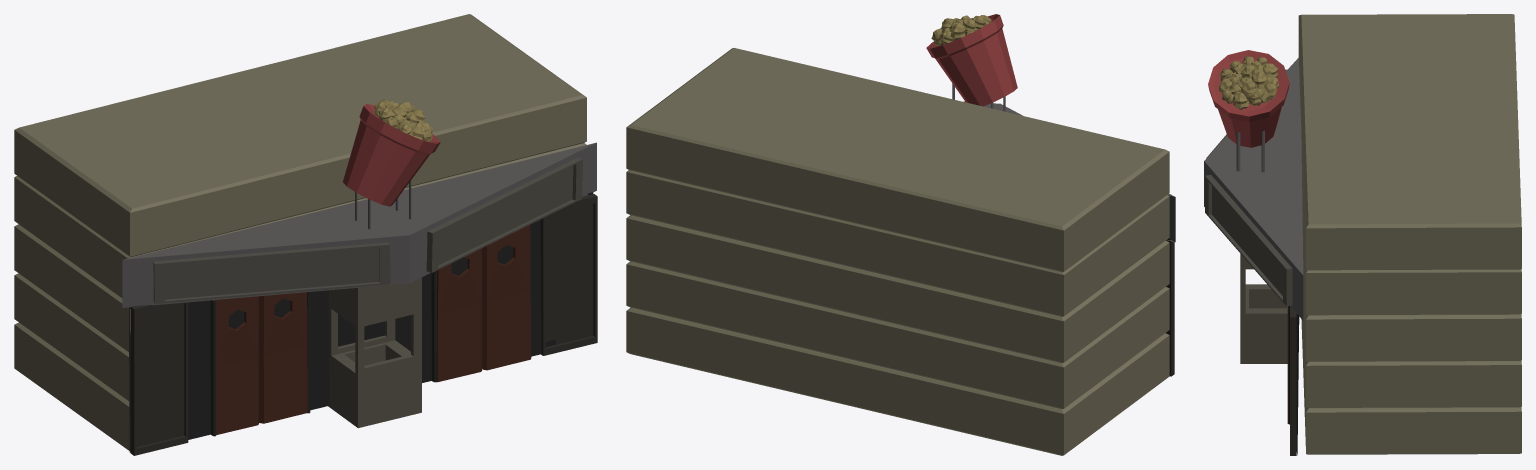
Rendered from Cinema.fbx.
3 views of the same model, side by side, from view 1: azimuth 30°, elevation 25°; view 2: azimuth 150°, elevation 25°; view 3: azimuth 270°, elevation 25° (orthographic). The views are drawn at different scales.
Visible parts, largest first — view 1: gr_cinemaCombine1; view 2: gr_cinemaCombine1; view 3: gr_cinemaCombine1.
Boxes of the visible parts, left/top/right/bottom form: gr_cinemaCombine1: left=14, top=14, right=597, bottom=455; gr_cinemaCombine1: left=626, top=14, right=1175, bottom=455; gr_cinemaCombine1: left=1204, top=14, right=1521, bottom=455.
Bounding box in the file's own units: 10.25 × 6.38 × 6.26.
